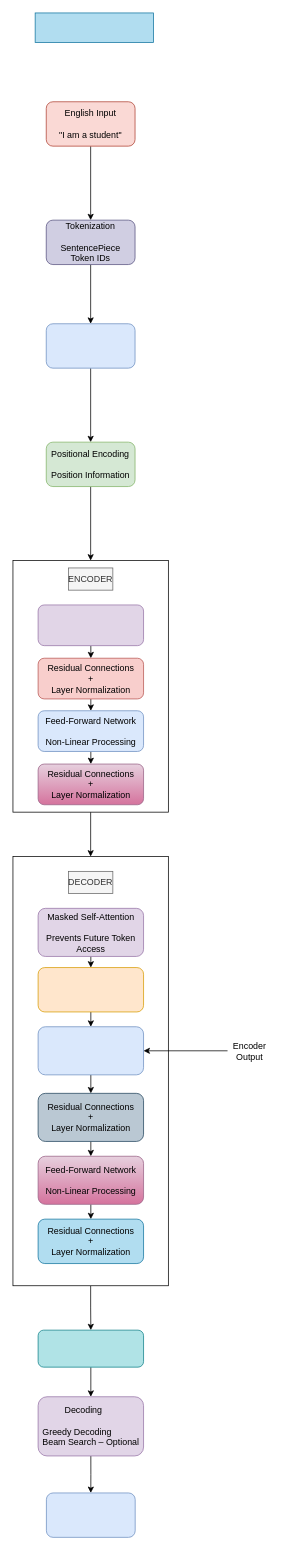
This 285x1550 diagram has some shape labels left out. The centre of each missing label's shape, as x and y in pixels:
"Cross-Attention Uses Encoder Representation" goes at pixel 90 1050.
"Embedding Token Embeddings" goes at pixel 90 345.
"Hindi Translation" goes at pixel 90 1514.
"Output Projection Target Vocabulary Scores" goes at pixel 90 1348.
"Residual Connections+Layer Normalization" goes at pixel 90 989.
"SAARTHI Transformer Architecture" goes at pixel 94 27.
"Self-Attention Contextual Relationships" goes at pixel 90 625.
